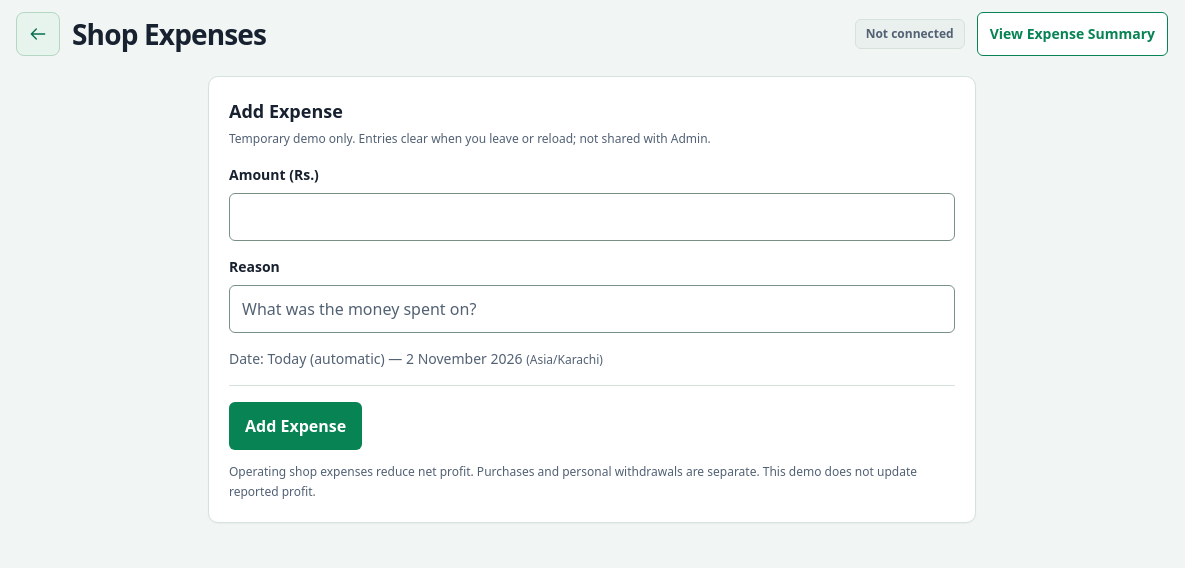
Scenario: role-placed temporary demo previews › rejects unsafe expense amount  and focuses its error
Type "Cleaning" into the field labelled "Reason" at (592, 309), box [229,285,955,333]
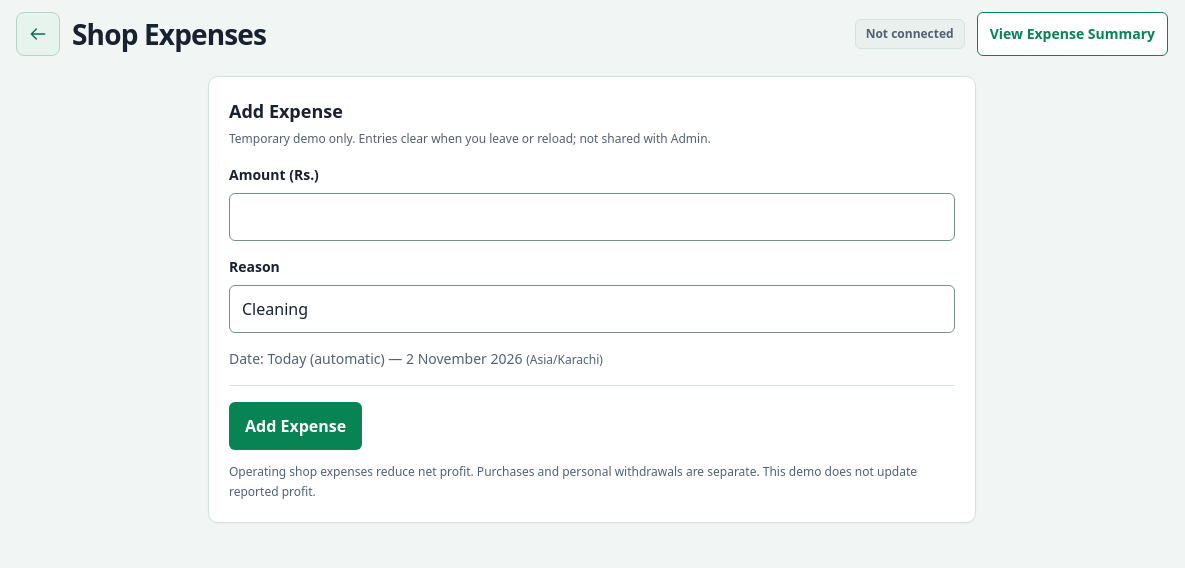
Click the button "Add Expense" at (296, 426), box [229,402,362,450]
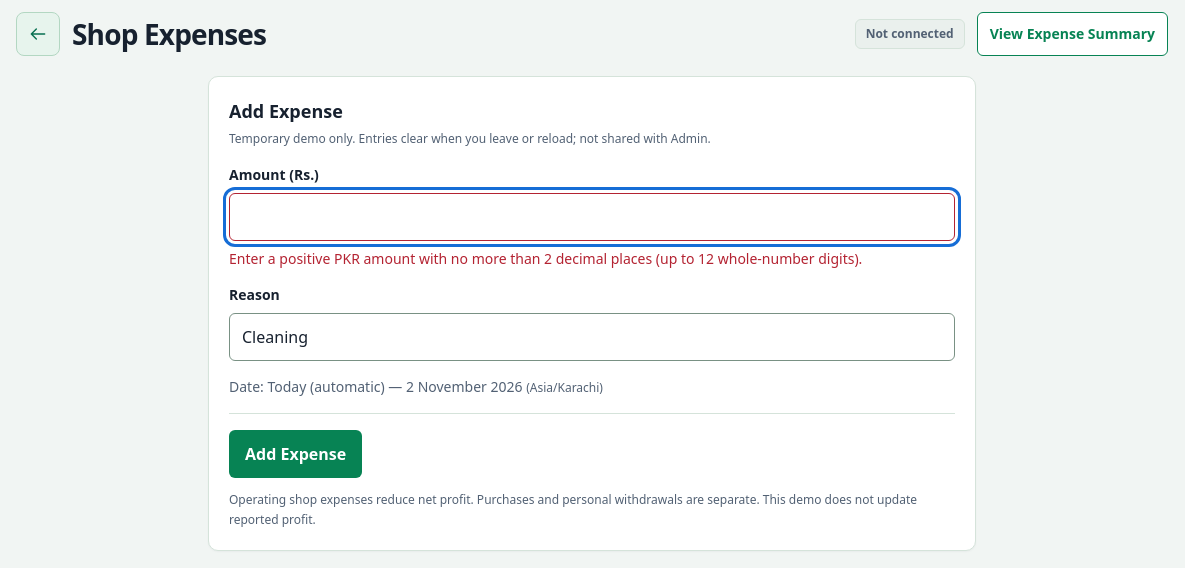
expect the message shows "Enter a positive PKR amount": met, box [229,249,862,268]
